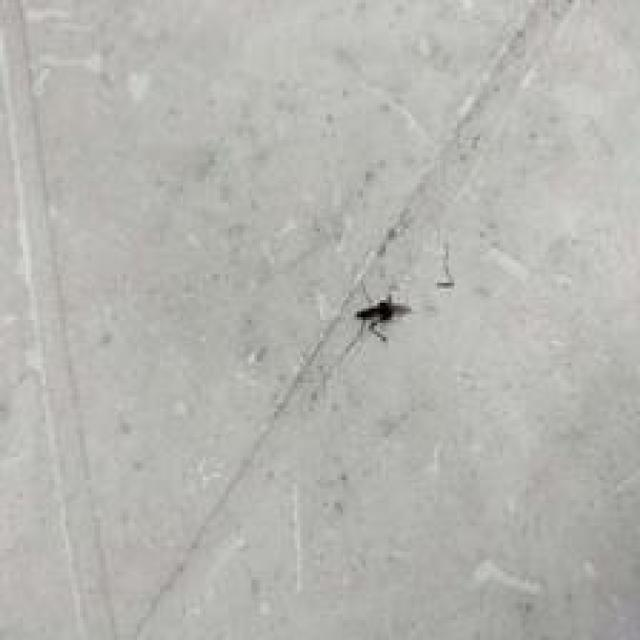Aedes albopictus: (353, 291, 413, 343)
